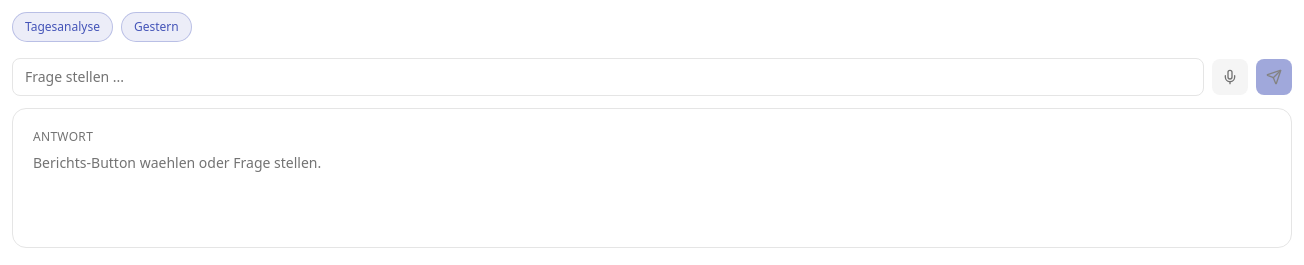
Test: KIWorkspace › voice-button toggles recording state and writes transcript to input
Click the button with test id "ki-workspace-voice-button": coordinates (1230, 77) [1212,59,1248,95]
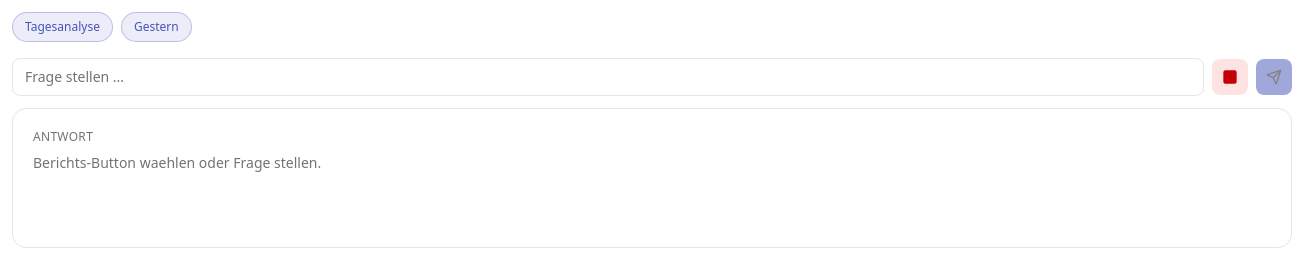
Now the button with test id "ki-workspace-voice-button" is pressed
Click the button with test id "ki-workspace-voice-button": coordinates (1230, 77) [1212,59,1248,95]
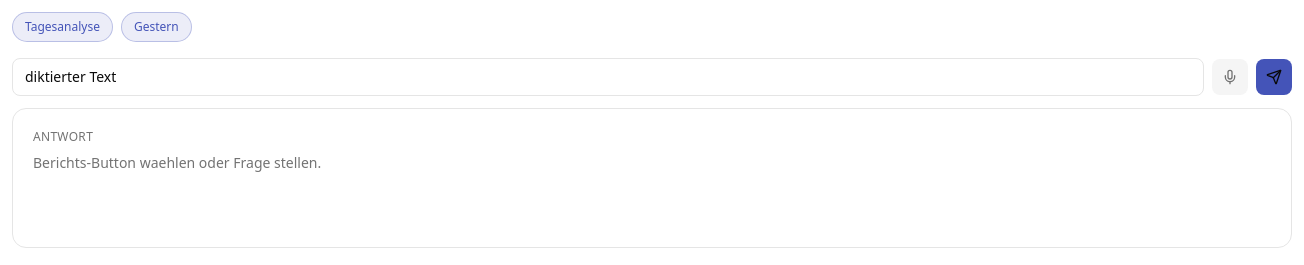
Now the field with test id "ki-workspace-input" holds "diktierter Text", box [12,58,1204,96]
